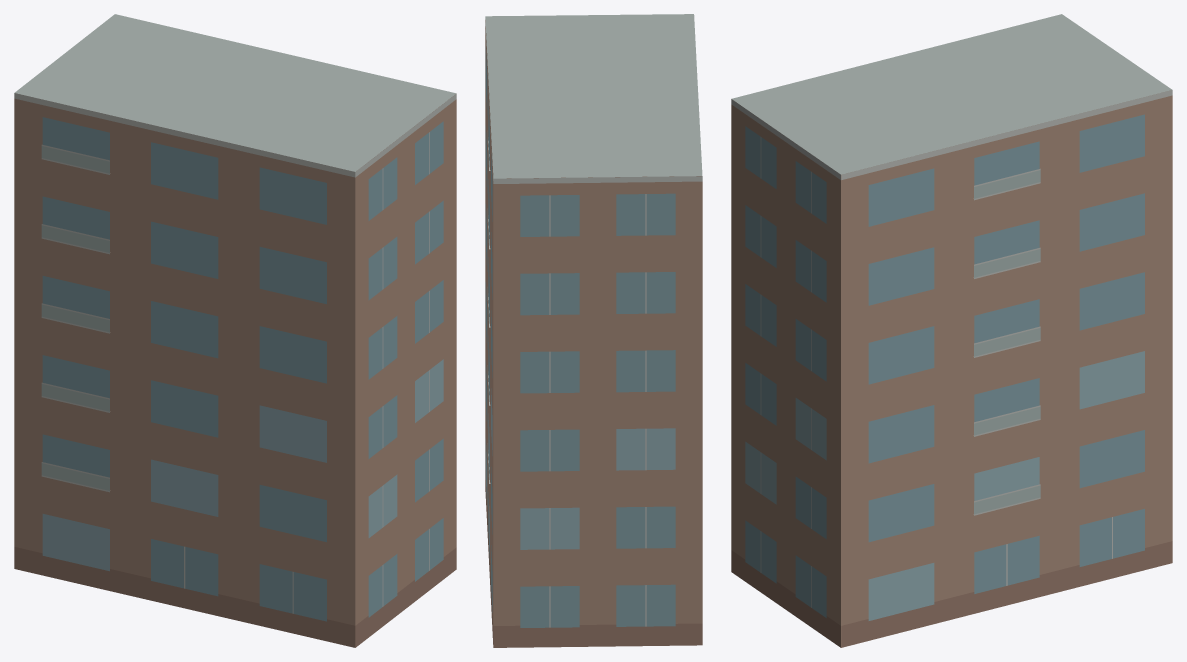
Rendered from survey-upis-32884225.glb.
3 renders of one model, left to right at view 1: azimuth 30°, elevation 25°; view 2: azimuth 150°, elevation 25°; view 3: azimuth 270°, elevation 25°, orthographic.
Visible parts, largest first — view 1: survey-upis-32884225.tmp; view 2: survey-upis-32884225.tmp; view 3: survey-upis-32884225.tmp.
Boxes of the visible parts, x1,y1,x2,y2 form: survey-upis-32884225.tmp: (14,14,456,647); survey-upis-32884225.tmp: (485,14,702,647); survey-upis-32884225.tmp: (731,14,1172,647).
Size of the model in its own units: 15.13 by 20.76 by 17.56.
